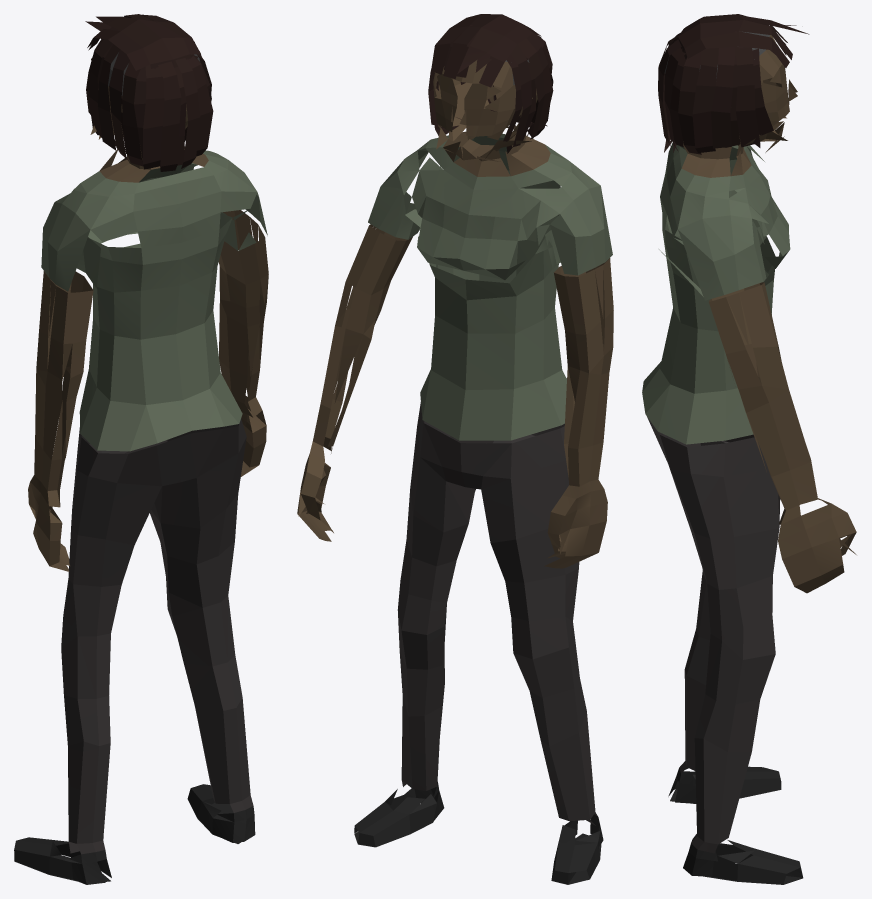
Rendered from person_7_idle.fbx.
The picture shows the model from 3 angles, left to right: view 1: azimuth 30°, elevation 25°; view 2: azimuth 150°, elevation 25°; view 3: azimuth 270°, elevation 25°; orthographic projection.
Visible parts, largest first — view 1: Female; view 2: Female; view 3: Female.
Part boxes in pixels (<box>): Female: <box>14,14,268,884</box>; Female: <box>297,14,613,884</box>; Female: <box>642,14,856,884</box>.
Size of the model in its own units: 0.3344 by 0.9955 by 0.239.
